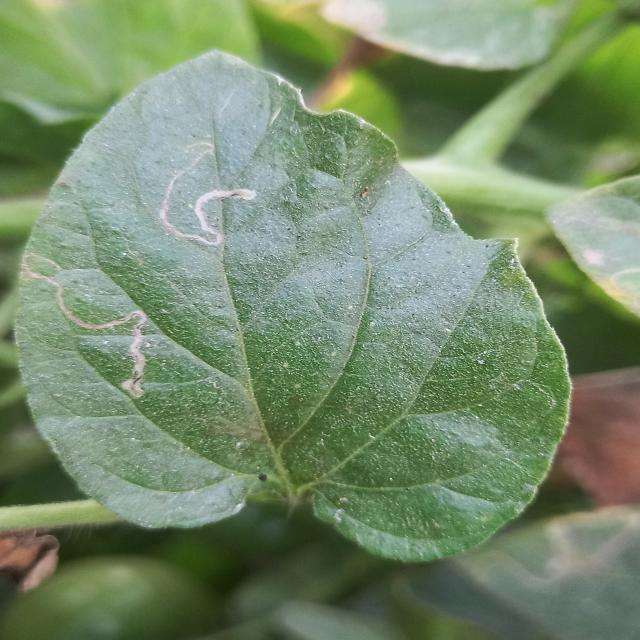Tuta absoluta: (18, 221, 183, 402), (144, 144, 261, 263)
